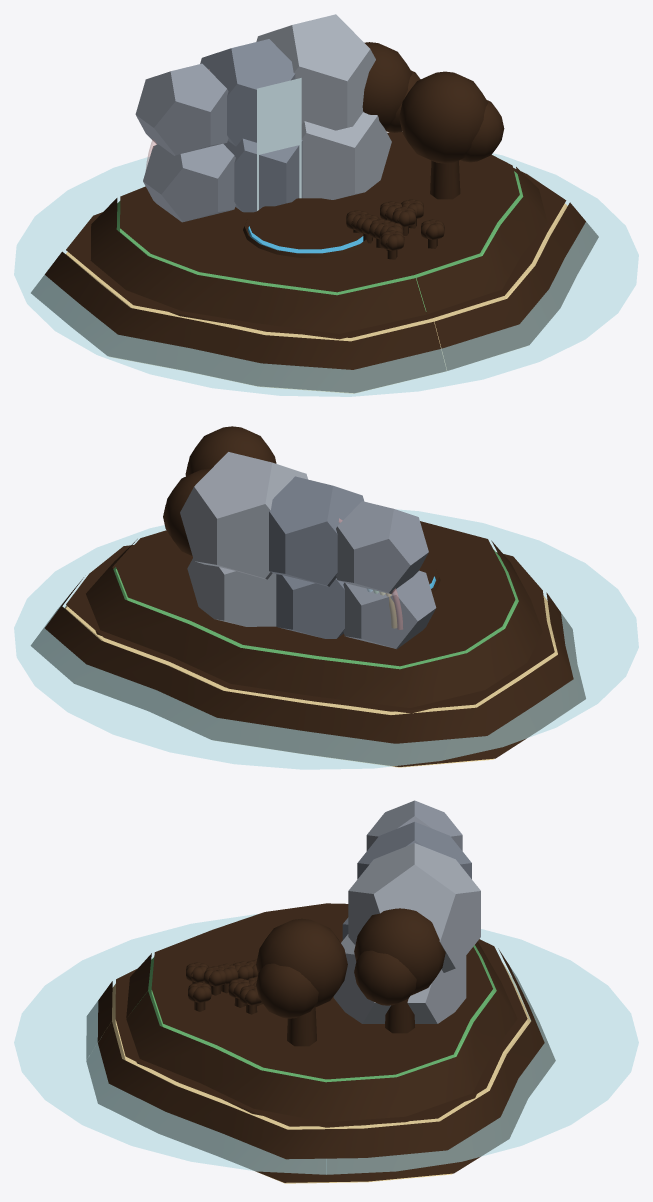
File: island-waterfall.glb
3 views of the same model, one above another, from view 1: azimuth 30°, elevation 25°; view 2: azimuth 150°, elevation 25°; view 3: azimuth 270°, elevation 25° (orthographic).
Visible parts, largest first — view 1: outline (×7), Group; view 2: Group (×2), outline (×4); view 3: outline (×8), Group.
Part boxes in pixels (x1,y1,x2,y2): outline (×7): [31, 42, 598, 393]; Group: [14, 14, 638, 396]; Group (×2): [14, 452, 638, 769]; outline (×4): [31, 426, 585, 766]; outline (×8): [86, 903, 555, 1182]; Group: [14, 800, 638, 1183].
Size of the model in its own units: 5.1 by 2.06 by 5.1.
